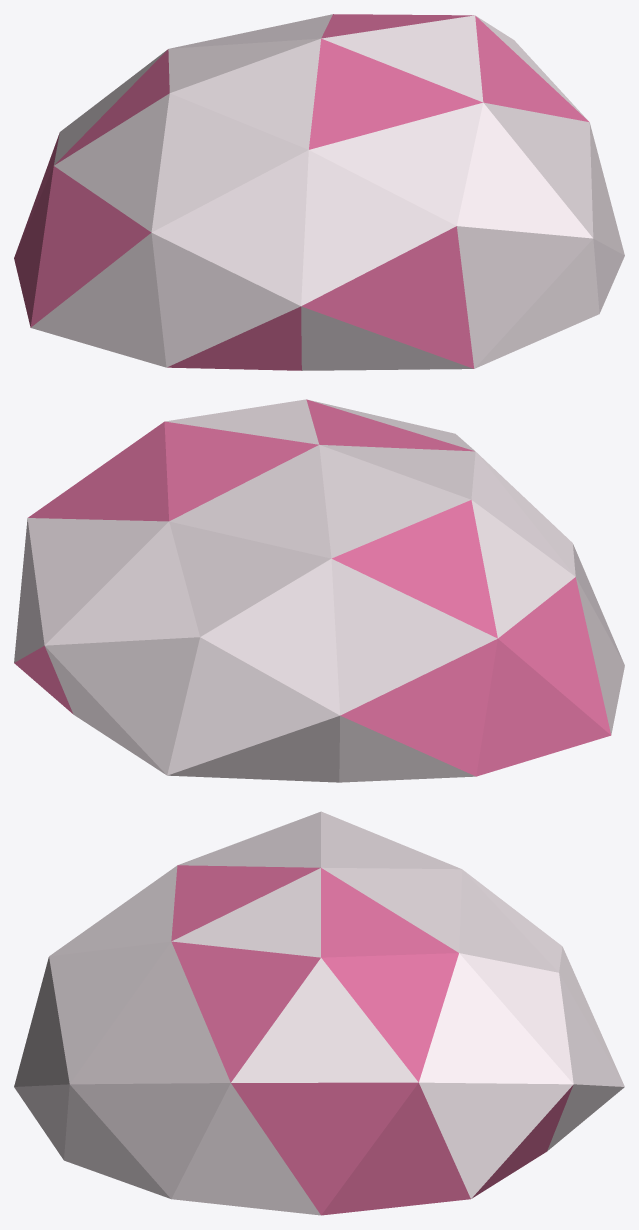
The model's file is item_lithium.glb.
The picture shows the model from 3 angles, top to bottom: view 1: azimuth 30°, elevation 25°; view 2: azimuth 150°, elevation 25°; view 3: azimuth 270°, elevation 25°; orthographic projection.
Parts seen in each view (by area): view 1: item_lithium; view 2: item_lithium; view 3: item_lithium.
Part boxes in pixels (x1=…): item_lithium: x1=14, y1=14, x2=624, y2=370; item_lithium: x1=14, y1=399, x2=624, y2=782; item_lithium: x1=14, y1=811, x2=624, y2=1215.
Bounding box in the file's own units: 0.9081 × 0.3428 × 0.8659.
